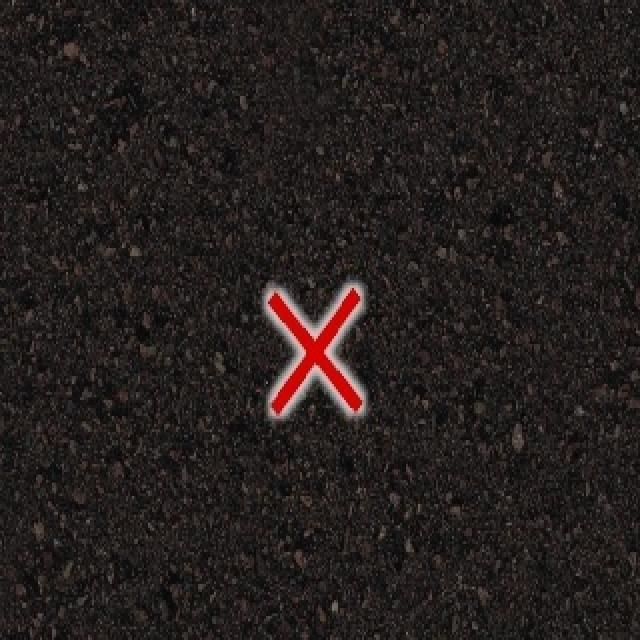x_marker: (267, 287, 361, 412)
